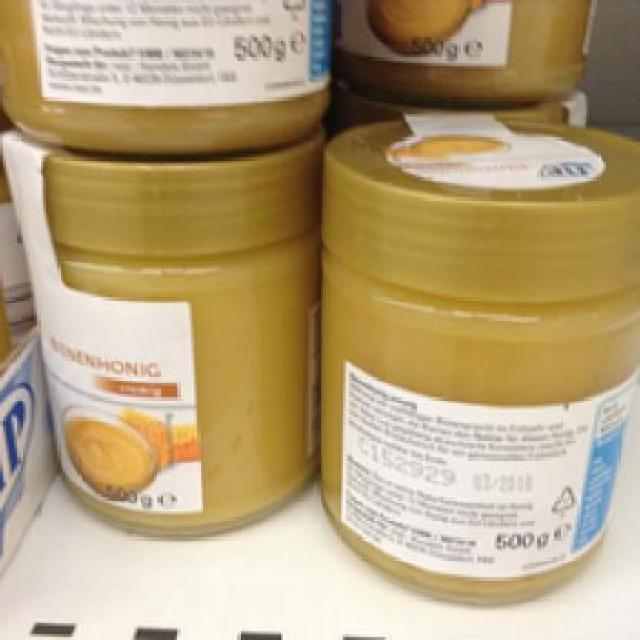Honey: (314, 109, 637, 612), (0, 120, 317, 529)
